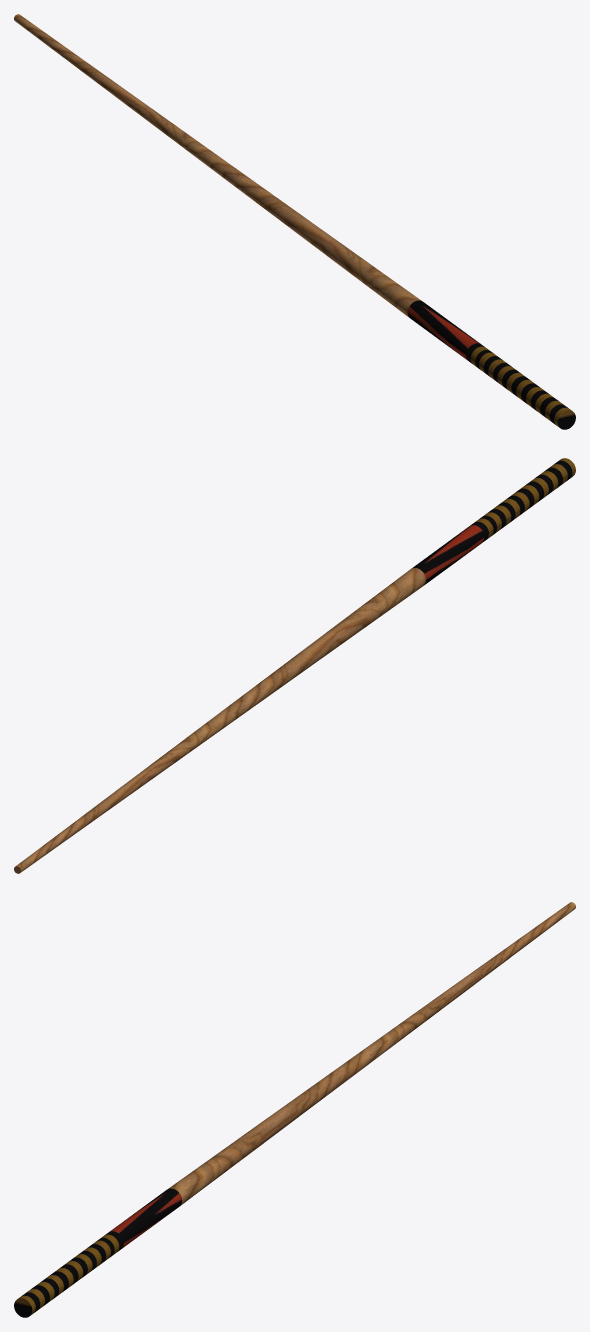
File: TheYard.FBX
3 renders of one model, top to bottom at view 1: azimuth 30°, elevation 25°; view 2: azimuth 150°, elevation 25°; view 3: azimuth 330°, elevation 25°, orthographic.
Visible parts, largest first — view 1: poolstick; view 2: poolstick; view 3: poolstick.
Boxes of the visible parts, x1,y1,x2,y2 form: poolstick: (14,14,575,429); poolstick: (14,458,575,873); poolstick: (14,902,575,1317).
Bounding box in the file's own units: 21.72 × 21.72 × 1127.
Materials: 2 (2 with a texture image).
